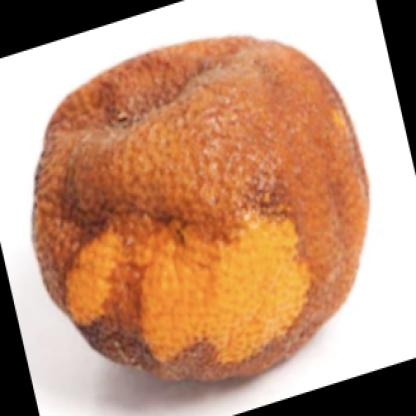rotten: (33, 37, 369, 376)
